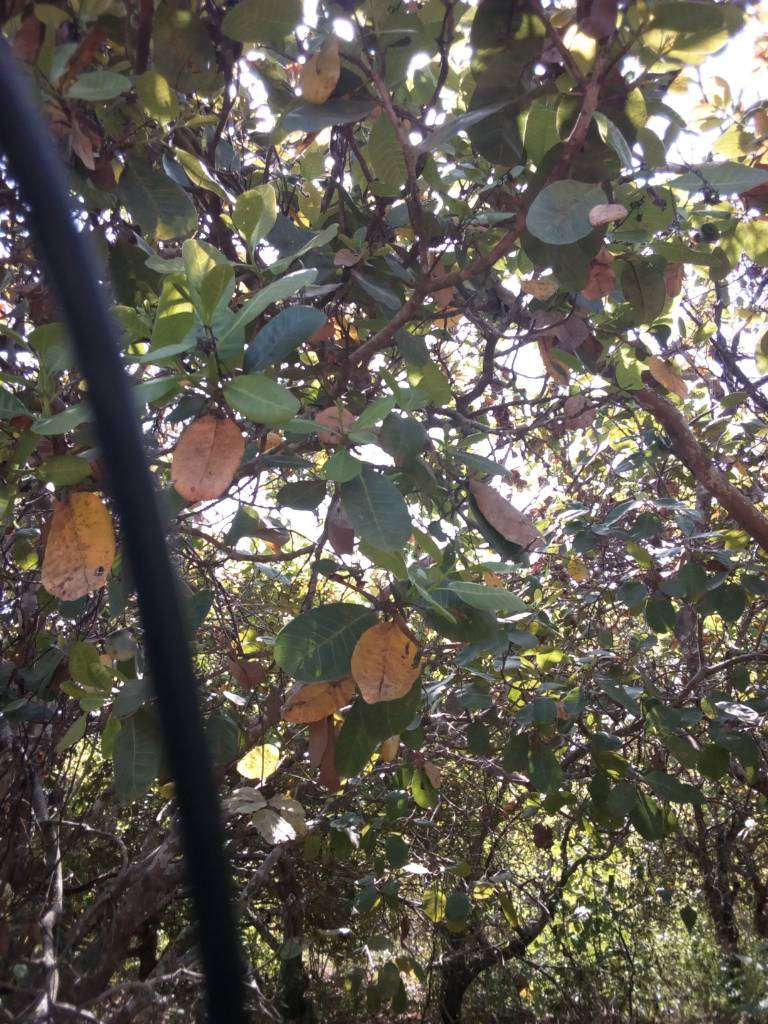Bactériose: (40, 488, 116, 600), (350, 621, 419, 703), (172, 416, 244, 494)
